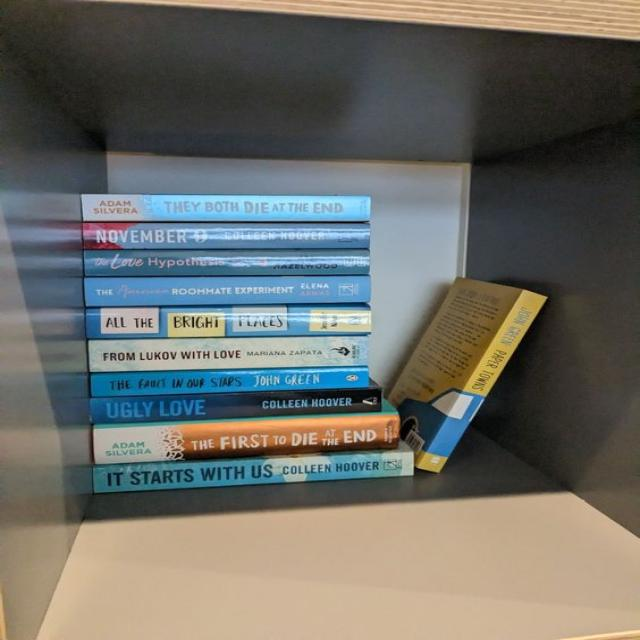book: (417, 290, 546, 473), (93, 413, 402, 466), (93, 452, 415, 495), (89, 387, 384, 424), (88, 337, 371, 375), (86, 306, 371, 336), (85, 277, 369, 307), (91, 367, 368, 397), (82, 194, 371, 222), (84, 248, 369, 276), (82, 223, 371, 249)
